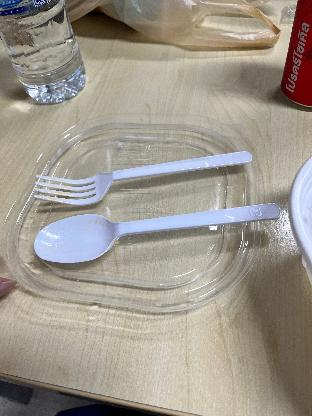Others: (35, 189, 282, 269), (35, 132, 251, 212)
